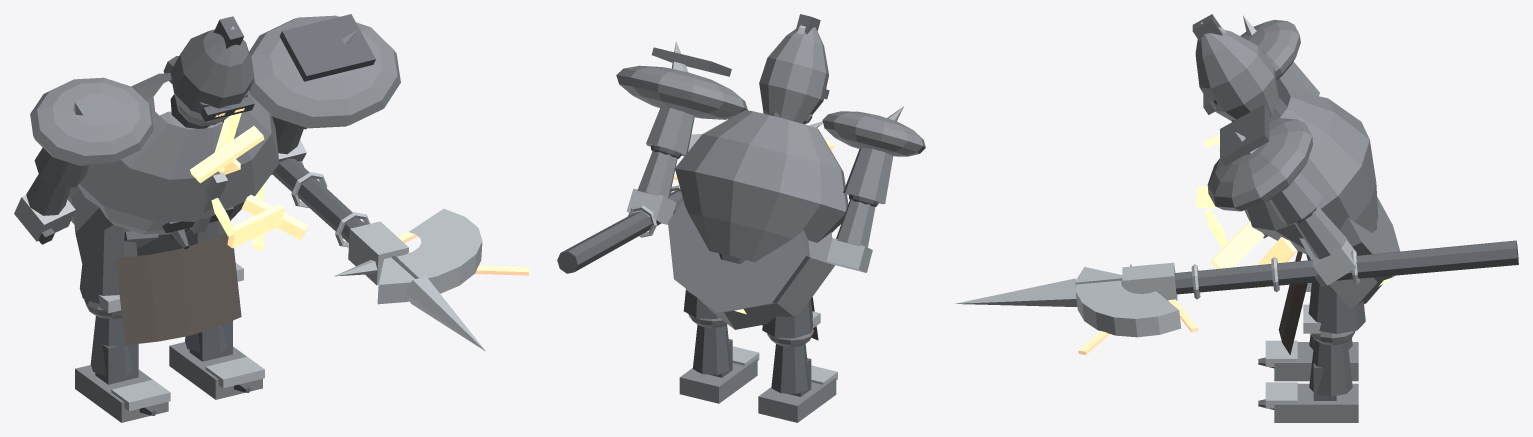
The model's file is boss-gundyr.glb.
The picture shows the model from 3 angles, left to right: view 1: azimuth 30°, elevation 25°; view 2: azimuth 150°, elevation 25°; view 3: azimuth 270°, elevation 25°; orthographic projection. The views are drawn at different scales.
Parts seen in each view (by area): view 1: g_torso_g_stone, g_hal_g_steel, g_leg_g_cloth, g_leg_g_dark, g_head_g_stone, g_torso_g_dark, g_coil_g_ember, g_leg_g_stone, g_leg_g_steel, g_hal_g_dark, g_armL_g_stone, g_serp1 (+6 smaller); view 2: g_torso_g_stone, g_serp1, g_leg_g_dark, g_head_g_stone, g_leg_g_stone, g_serp2, g_armL_g_stone, g_armR_g_stone, g_hal_g_dark, g_torso_g_dark, g_armL_g_steel, g_armR_g_steel (+3 smaller); view 3: g_torso_g_stone, g_hal_g_steel, g_hal_g_dark, g_head_g_stone, g_leg_g_dark, g_leg_g_stone, g_armR_g_stone, g_coil_g_ember, g_torso_g_dark, g_leg_g_steel, g_serp2, g_serp1 (+5 smaller).
Part boxes in pixels (x1=…): g_torso_g_stone: x1=30, y1=15, x2=400, y2=234; g_hal_g_steel: x1=291, y1=172, x2=485, y2=351; g_leg_g_cloth: x1=115, y1=233, x2=241, y2=345; g_leg_g_dark: x1=79, y1=217, x2=250, y2=415; g_head_g_stone: x1=170, y1=29, x2=254, y2=126; g_torso_g_dark: x1=124, y1=14, x2=375, y2=247; g_coil_g_ember: x1=190, y1=113, x2=307, y2=249; g_leg_g_stone: x1=75, y1=299, x2=262, y2=422; g_leg_g_steel: x1=98, y1=263, x2=264, y2=411; g_hal_g_dark: x1=163, y1=56, x2=418, y2=278; g_armL_g_stone: x1=26, y1=148, x2=88, y2=215; g_serp1: x1=72, y1=127, x2=244, y2=266; g_torso_g_stone: x1=616, y1=65, x2=925, y2=262; g_serp1: x1=675, y1=209, x2=835, y2=329; g_leg_g_dark: x1=683, y1=290, x2=813, y2=396; g_head_g_stone: x1=759, y1=27, x2=828, y2=124; g_leg_g_stone: x1=679, y1=314, x2=836, y2=422; g_serp2: x1=668, y1=200, x2=809, y2=312; g_armL_g_stone: x1=836, y1=147, x2=893, y2=247; g_armR_g_stone: x1=637, y1=107, x2=694, y2=198; g_hal_g_dark: x1=557, y1=190, x2=683, y2=273; g_torso_g_dark: x1=651, y1=47, x2=790, y2=264; g_armL_g_steel: x1=826, y1=238, x2=872, y2=272; g_armR_g_steel: x1=626, y1=188, x2=676, y2=224; g_torso_g_stone: x1=1207, y1=19, x2=1378, y2=254; g_hal_g_steel: x1=955, y1=250, x2=1359, y2=337; g_hal_g_dark: x1=1076, y1=240, x2=1518, y2=294; g_head_g_stone: x1=1195, y1=30, x2=1279, y2=121; g_leg_g_dark: x1=1258, y1=282, x2=1365, y2=409; g_leg_g_stone: x1=1274, y1=292, x2=1358, y2=422; g_armR_g_stone: x1=1269, y1=173, x2=1346, y2=259; g_coil_g_ember: x1=1196, y1=135, x2=1297, y2=288; g_torso_g_dark: x1=1220, y1=97, x2=1376, y2=260; g_leg_g_steel: x1=1265, y1=283, x2=1321, y2=408; g_serp2: x1=1340, y1=196, x2=1400, y2=281; g_serp1: x1=1299, y1=201, x2=1393, y2=308.
Bounding box in the file's own units: 2.88 × 2.85 × 3.89.
